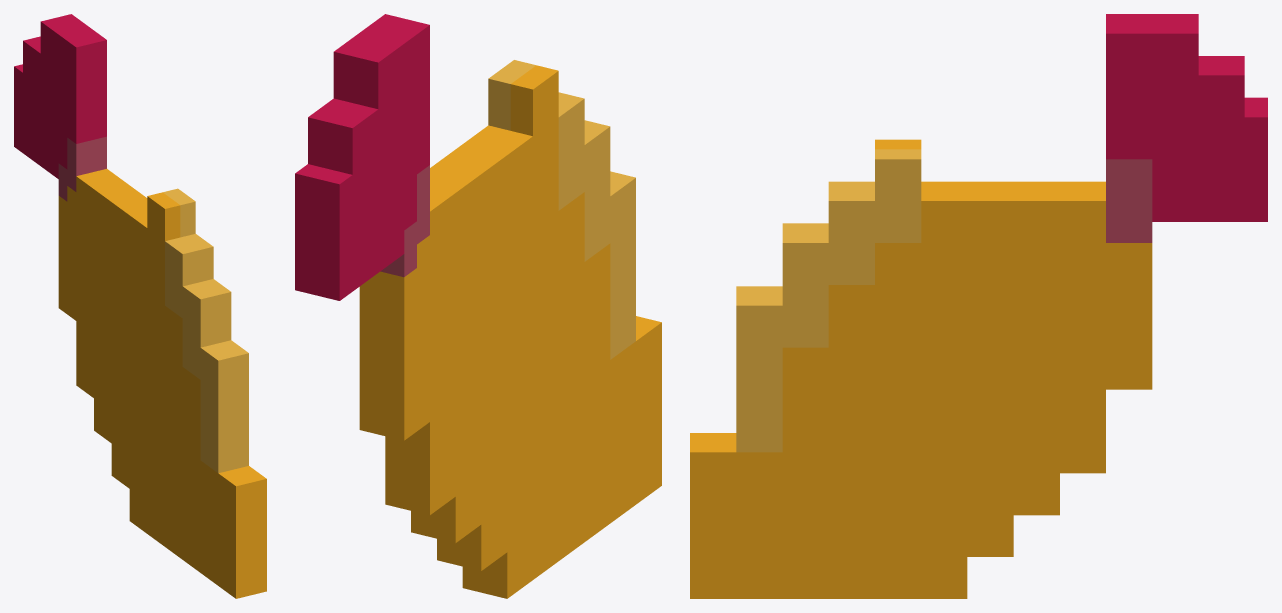
File: sakana1.fbx
3 views of the same model, side by side, from view 1: azimuth 30°, elevation 25°; view 2: azimuth 150°, elevation 25°; view 3: azimuth 270°, elevation 25° (orthographic). The views are drawn at different scales.
Visible parts, largest first — view 1: ObjObject.004; view 2: ObjObject.004; view 3: ObjObject.004.
Boxes of the visible parts, x1,y1,x2,y2 form: ObjObject.004: (14,14,266,598); ObjObject.004: (295,14,661,598); ObjObject.004: (690,14,1267,598).
Bounding box in the file's own units: 20 × 270 × 250.
